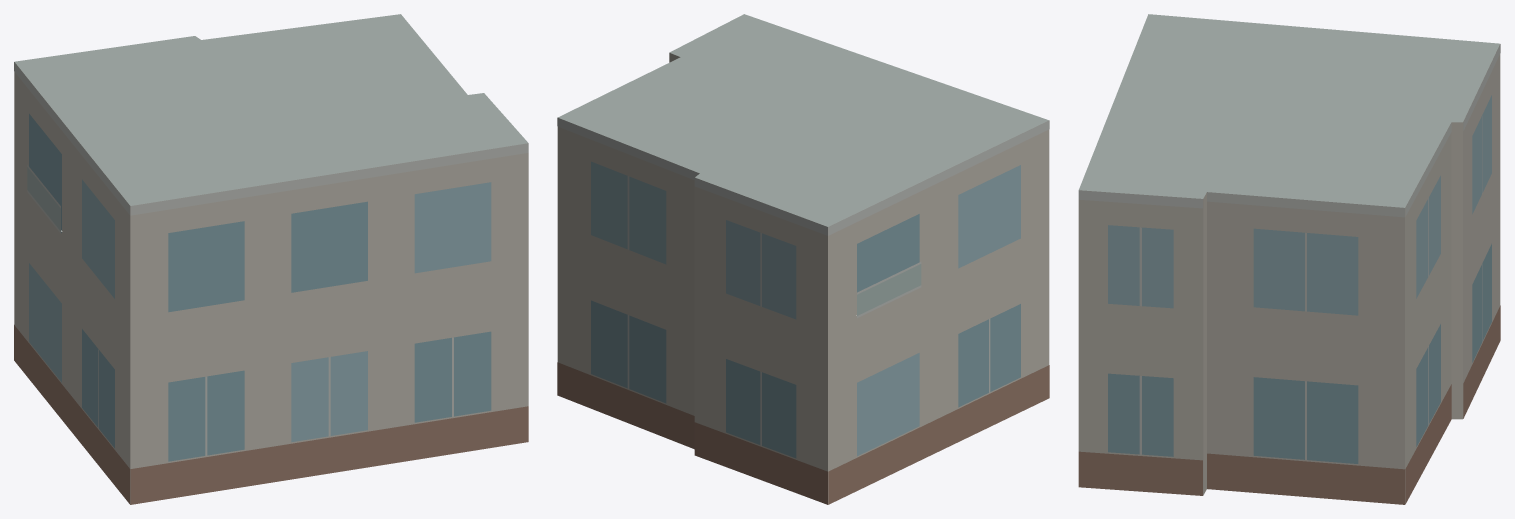
Rendered from survey-upis-33028665.glb.
3 renders of one model, left to right at view 1: azimuth 30°, elevation 25°; view 2: azimuth 150°, elevation 25°; view 3: azimuth 270°, elevation 25°, orthographic. The views are drawn at different scales.
Visible parts, largest first — view 1: survey-upis-33028665.tmp; view 2: survey-upis-33028665.tmp; view 3: survey-upis-33028665.tmp.
Boxes of the visible parts, <box> form: survey-upis-33028665.tmp: <box>14,14,528,504</box>; survey-upis-33028665.tmp: <box>557,14,1049,504</box>; survey-upis-33028665.tmp: <box>1078,14,1500,504</box>.
Size of the model in its own units: 10.65 by 7.6 by 9.79.
